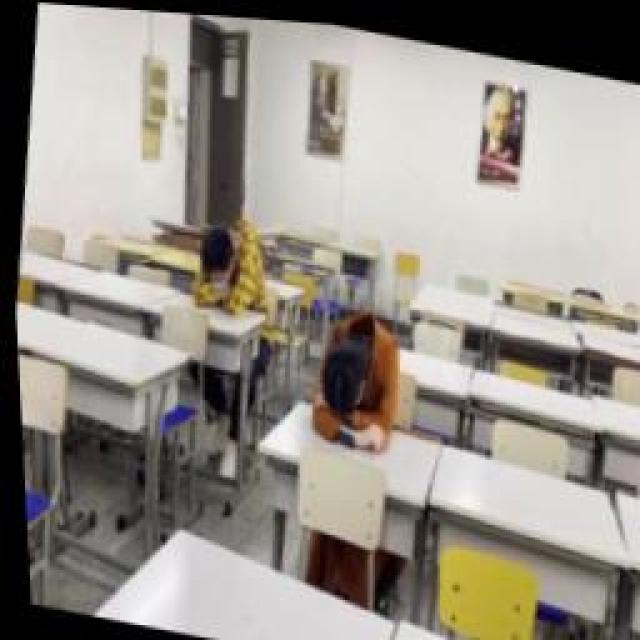sleep: (300, 298, 402, 450), (180, 205, 270, 317)
